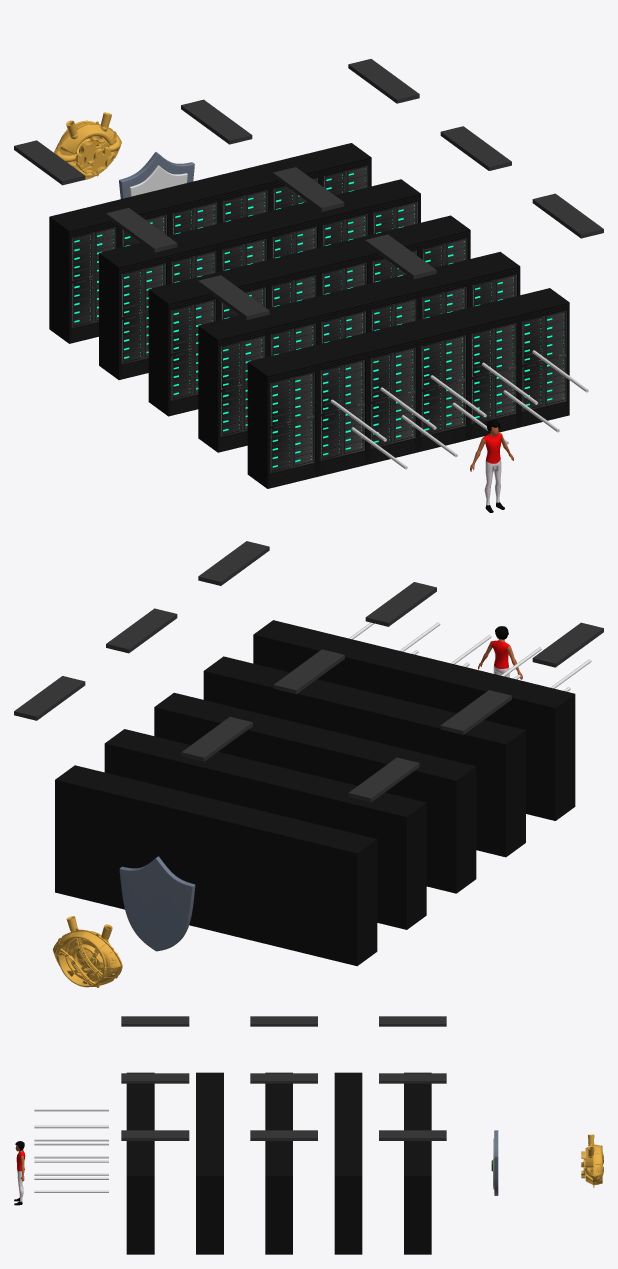
The picture shows the model from 3 angles, top to bottom: view 1: azimuth 30°, elevation 25°; view 2: azimuth 150°, elevation 25°; view 3: azimuth 270°, elevation 25°; orthographic projection. The views are drawn at different scales.
Parts seen in each view (by area): view 1: Cluster, LampTeto.003, Rear Case, corpo.001, shield_1, Inner Eye, shield.001_2; view 2: Cluster, LampTeto.003, shield_1, Eye of Agamotto, Rear Case, corpo.001; view 3: Cluster, LampTeto.003, Rear Case, corpo.001, Eye of Agamotto.
Boxes of the visible parts, x1,y1,x2,y2 form: Cluster: [49, 143, 569, 488]; LampTeto.003: [14, 59, 603, 319]; Rear Case: [54, 112, 121, 179]; corpo.001: [470, 427, 513, 512]; shield_1: [119, 152, 194, 198]; Inner Eye: [74, 137, 111, 175]; shield.001_2: [129, 165, 187, 196]; Cluster: [55, 620, 575, 966]; LampTeto.003: [14, 541, 603, 802]; shield_1: [119, 856, 195, 951]; Eye of Agamotto: [53, 931, 120, 987]; Rear Case: [52, 916, 122, 987]; corpo.001: [478, 639, 522, 679]; Cluster: [126, 1072, 431, 1254]; LampTeto.003: [121, 1016, 446, 1140]; Rear Case: [585, 1134, 594, 1187]; corpo.001: [14, 1145, 25, 1205]; Eye of Agamotto: [594, 1144, 602, 1185].
Size of the model in its own units: 3.76 by 1.95 by 7.7.
15 materials, 1 textured.
